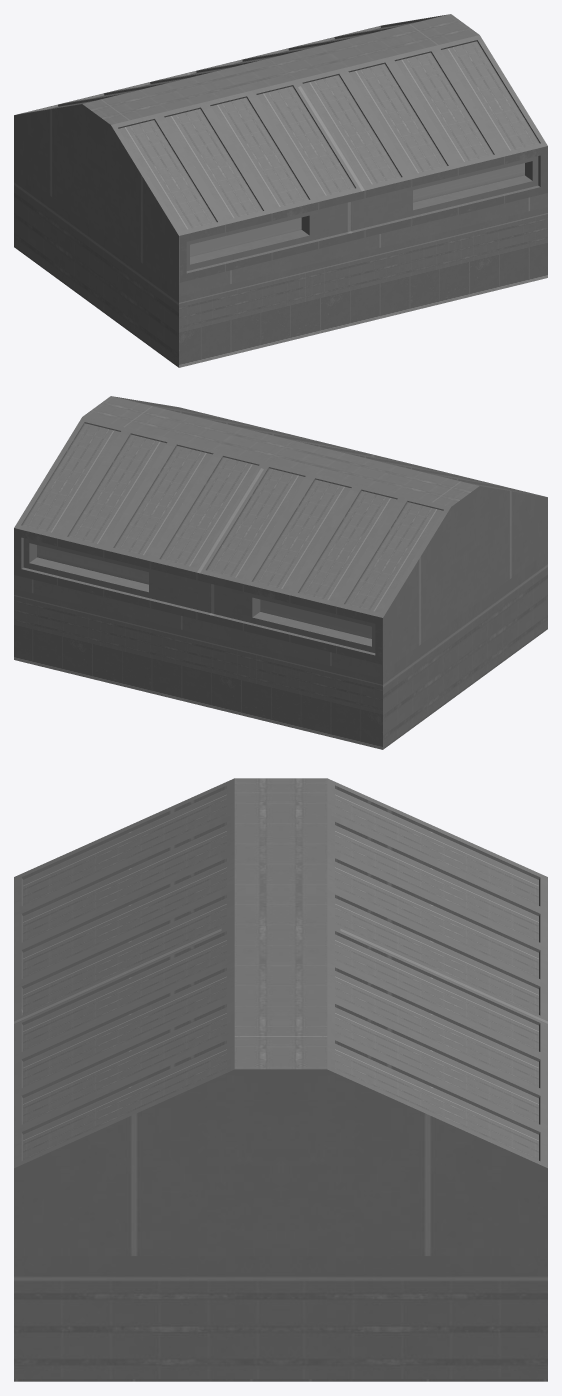
Rendered from SM_module_06.glb.
The picture shows the model from 3 angles, top to bottom: view 1: azimuth 30°, elevation 25°; view 2: azimuth 150°, elevation 25°; view 3: azimuth 270°, elevation 25°; orthographic projection. The views are drawn at different scales.
Parts seen in each view (by area): view 1: SM_module_06; view 2: SM_module_06; view 3: SM_module_06.
Boxes of the visible parts, box(x1,y1,x2,y2) form: SM_module_06: box(14, 14, 547, 367); SM_module_06: box(14, 396, 547, 749); SM_module_06: box(14, 778, 547, 1381).
Bounding box in the file's own units: 8 × 4 × 6.2.
1 material, 1 textured.
